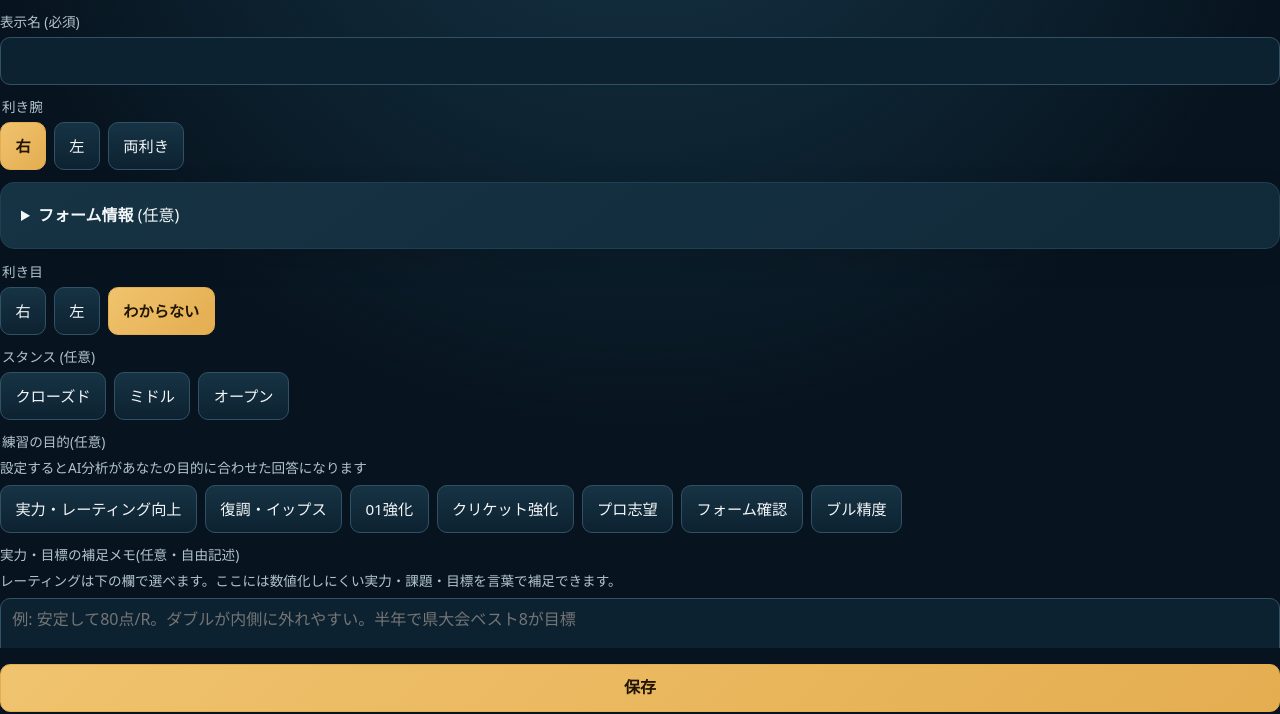
Test: PlayerForm (アクセシブルな任意フォーム情報) › 4つのselectをラベル名から取得できる
What coordinates should you click on to do the following:
click the text "フォーム情報"
I would click on:
 (86, 215)
Its box is [38, 204, 133, 226].
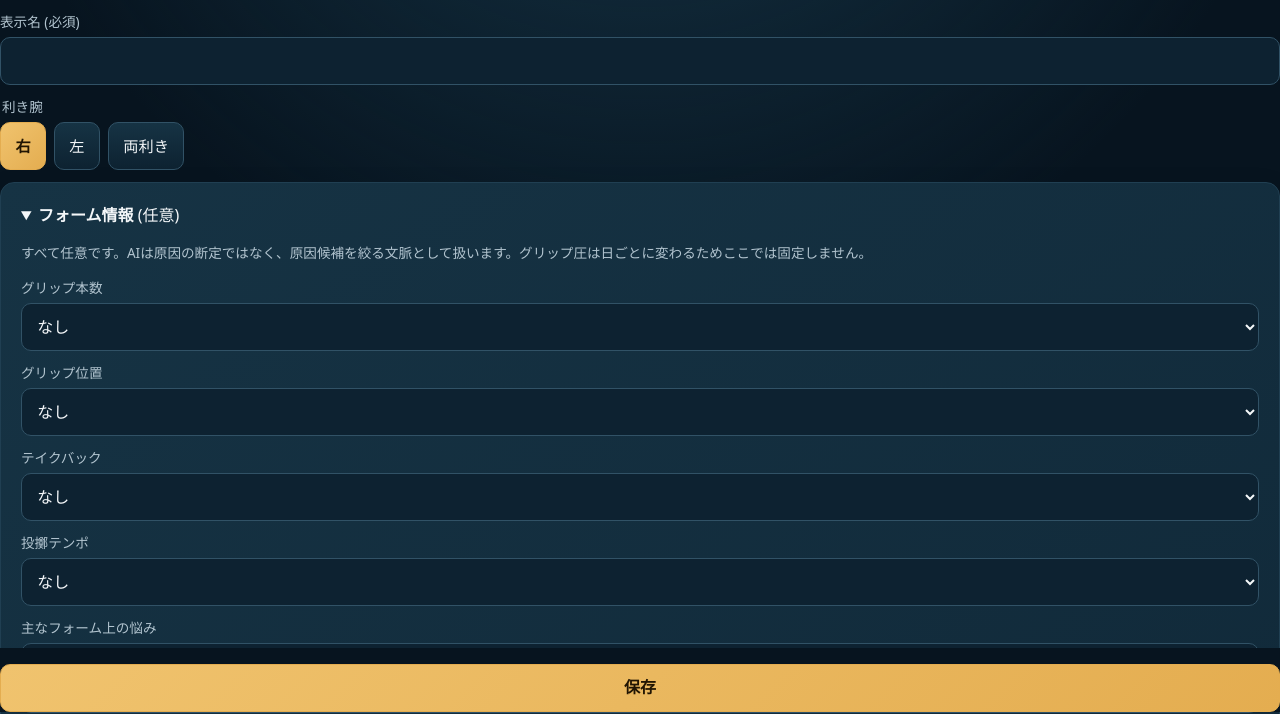
expect the dropdown labelled "グリップ本数" is shown: met, box [21, 303, 1259, 351]
expect the dropdown labelled "グリップ位置" is shown: met, box [21, 388, 1259, 436]
expect the dropdown labelled "テイクバック" is shown: met, box [21, 473, 1259, 521]
